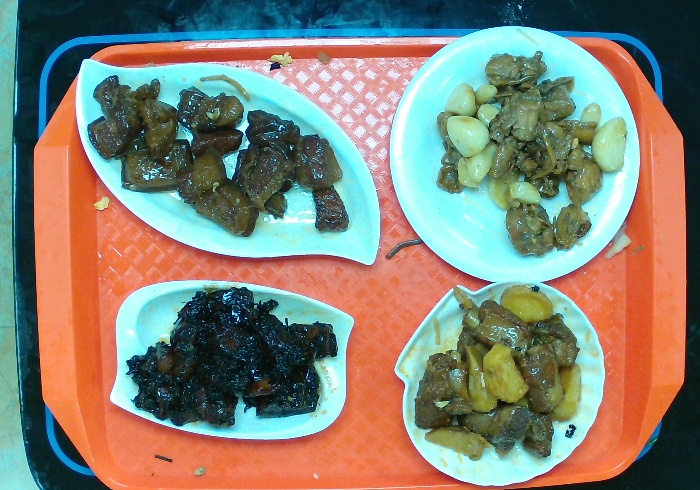RJxy-Bei_Ke_Wan: (392, 278, 607, 488)
RJxy-Jian_Jiao_Fang_Die: (107, 277, 356, 442)
RJxy-Jian_Jiao_Pan: (73, 56, 384, 267)
RJxy-Yuan_Pan: (387, 24, 642, 285)
